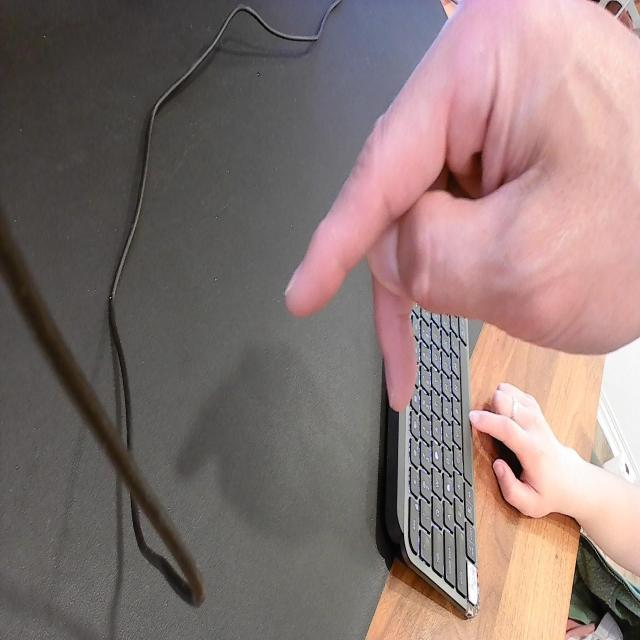P: (278, 1, 624, 420)
